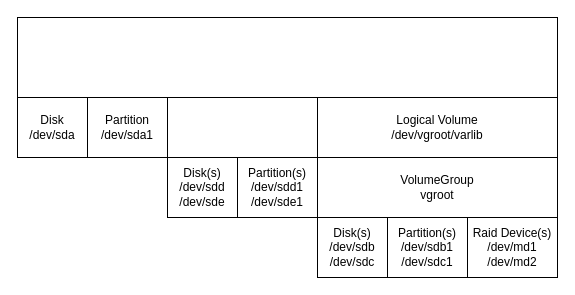
Image size: 575x295. Some labels were removed from this diagram. The centre of each missing label's shape, as x and y in pixels:
Filesystem /var/lib: [287,57]
Raid Device /dev/md0: [242,127]
